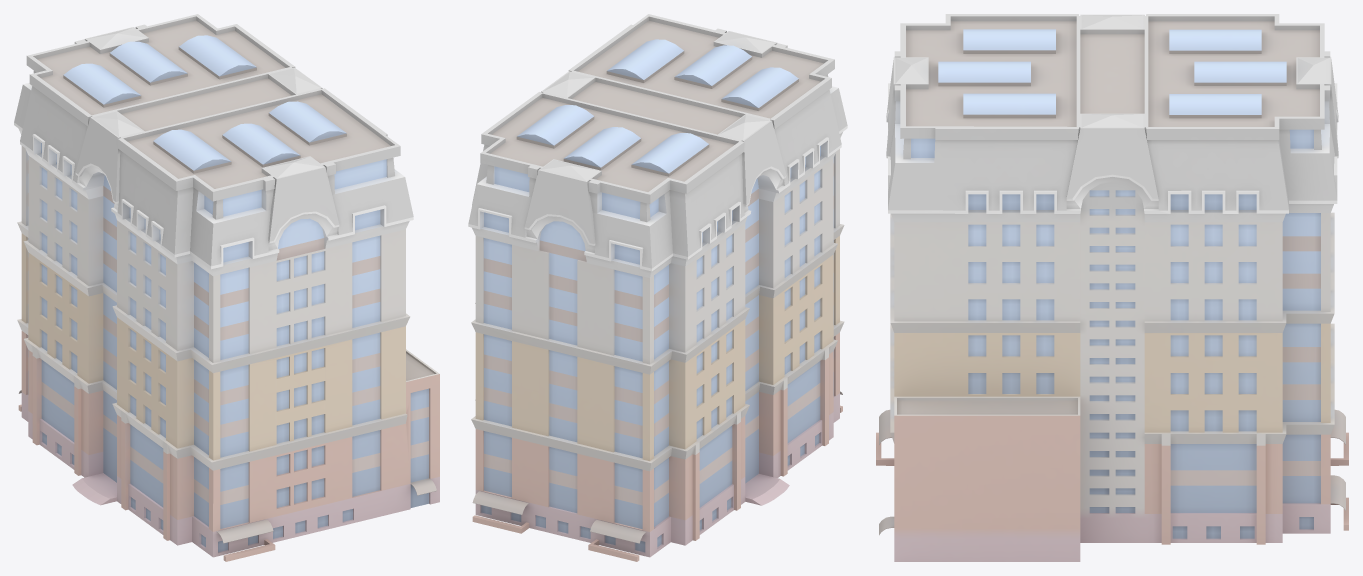
Rendered from omsk2gis.glb.
The picture shows the model from 3 angles, left to right: view 1: azimuth 30°, elevation 25°; view 2: azimuth 150°, elevation 25°; view 3: azimuth 270°, elevation 25°; orthographic projection. The views are drawn at different scales.
Parts seen in each view (by area): view 1: omsk2gis; view 2: omsk2gis; view 3: omsk2gis.
Boxes of the visible parts, bbox=[...] form: omsk2gis: bbox=[14, 14, 439, 561]; omsk2gis: bbox=[468, 14, 847, 561]; omsk2gis: bbox=[876, 14, 1348, 561].
Size of the model in its own units: 26.75 by 36.08 by 36.83.
Materials: 1 (1 with a texture image).
